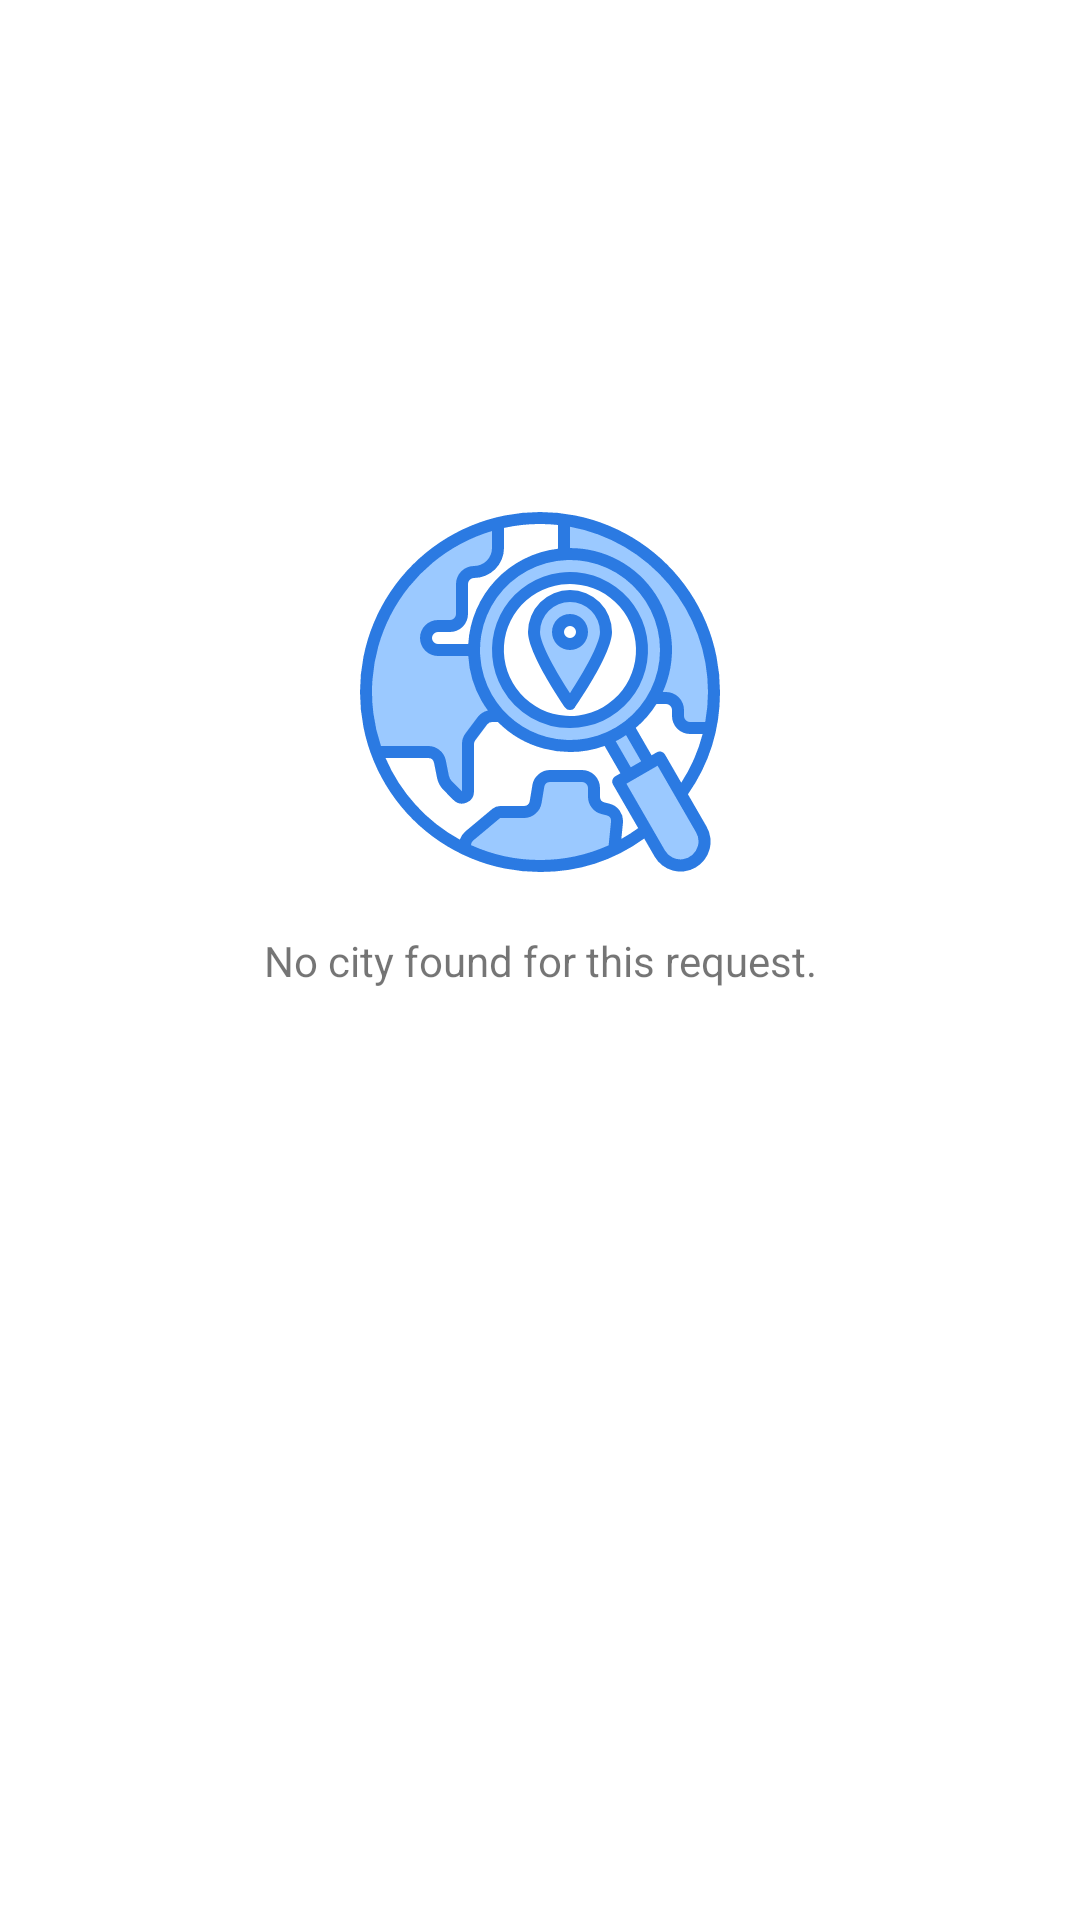

Named icons in this screenshot (1080x1920) and their centers, [x,y]:
search city: [540,692]
